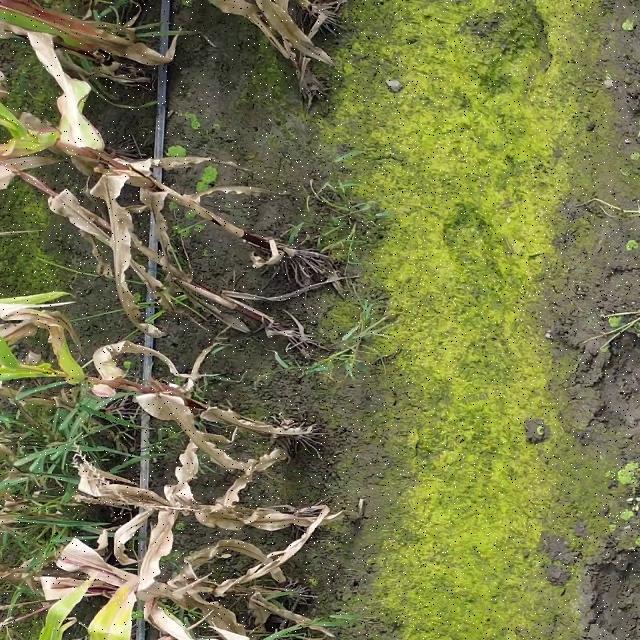northern-leaf-blight: (29, 30, 118, 146), (23, 304, 96, 401), (84, 582, 140, 640)
